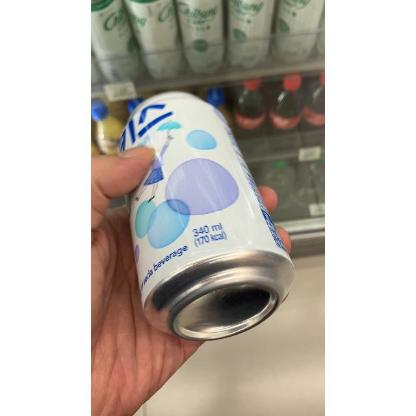Can: (117, 88, 297, 344)
